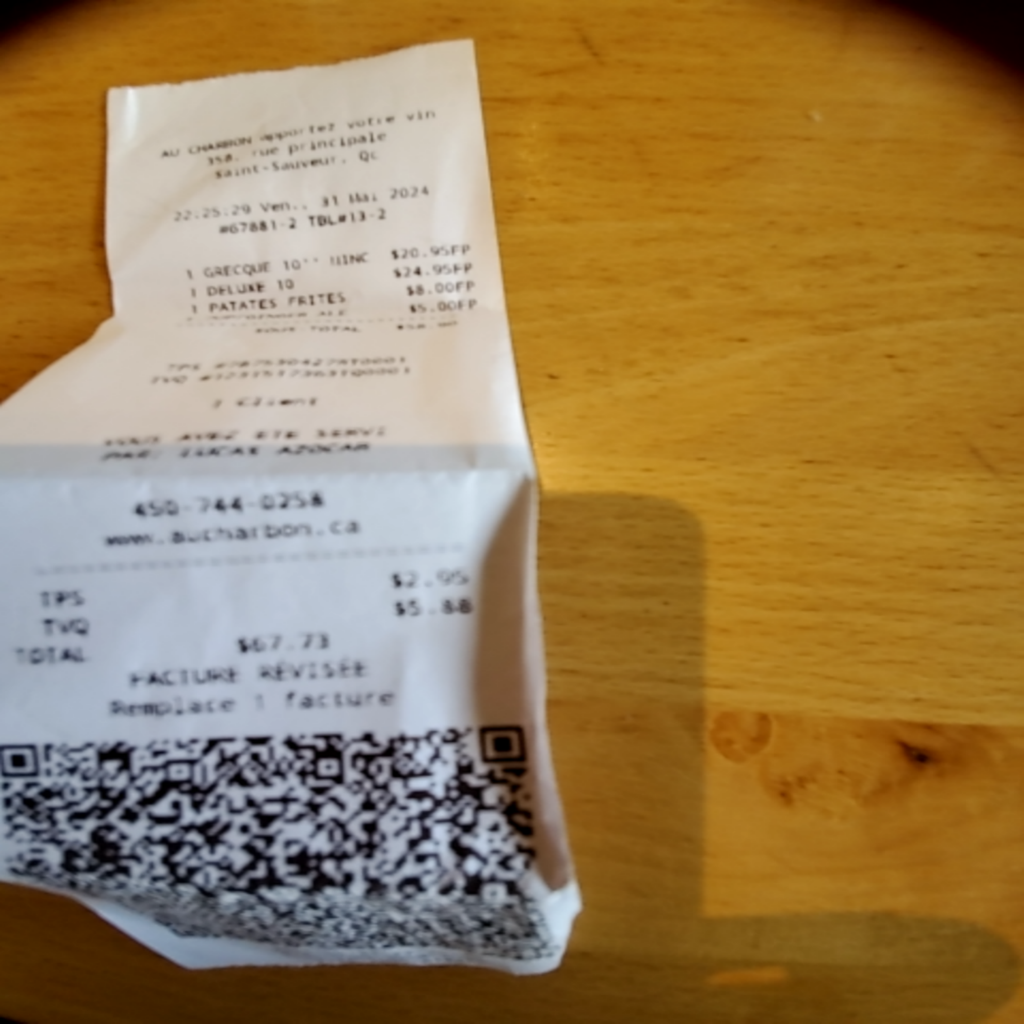recipt: (2, 36, 581, 972)
